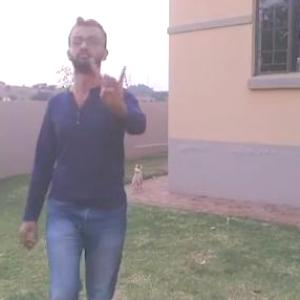takeoff-hand: (88, 54, 132, 115)
